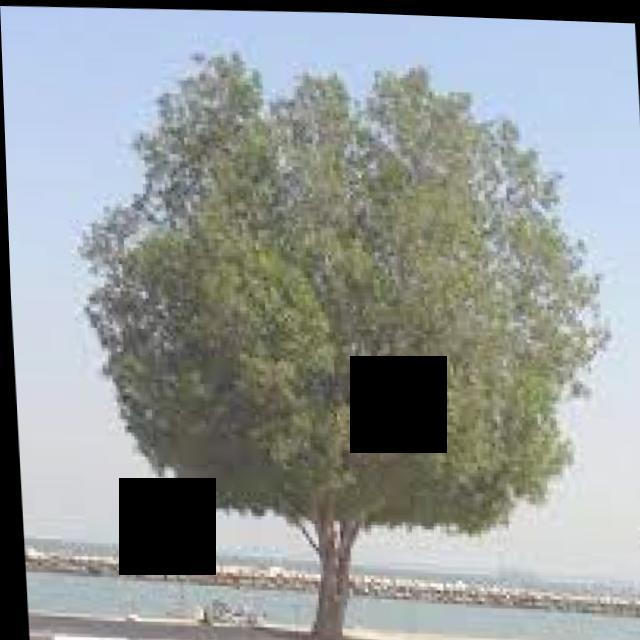Tree: (63, 35, 624, 640)
